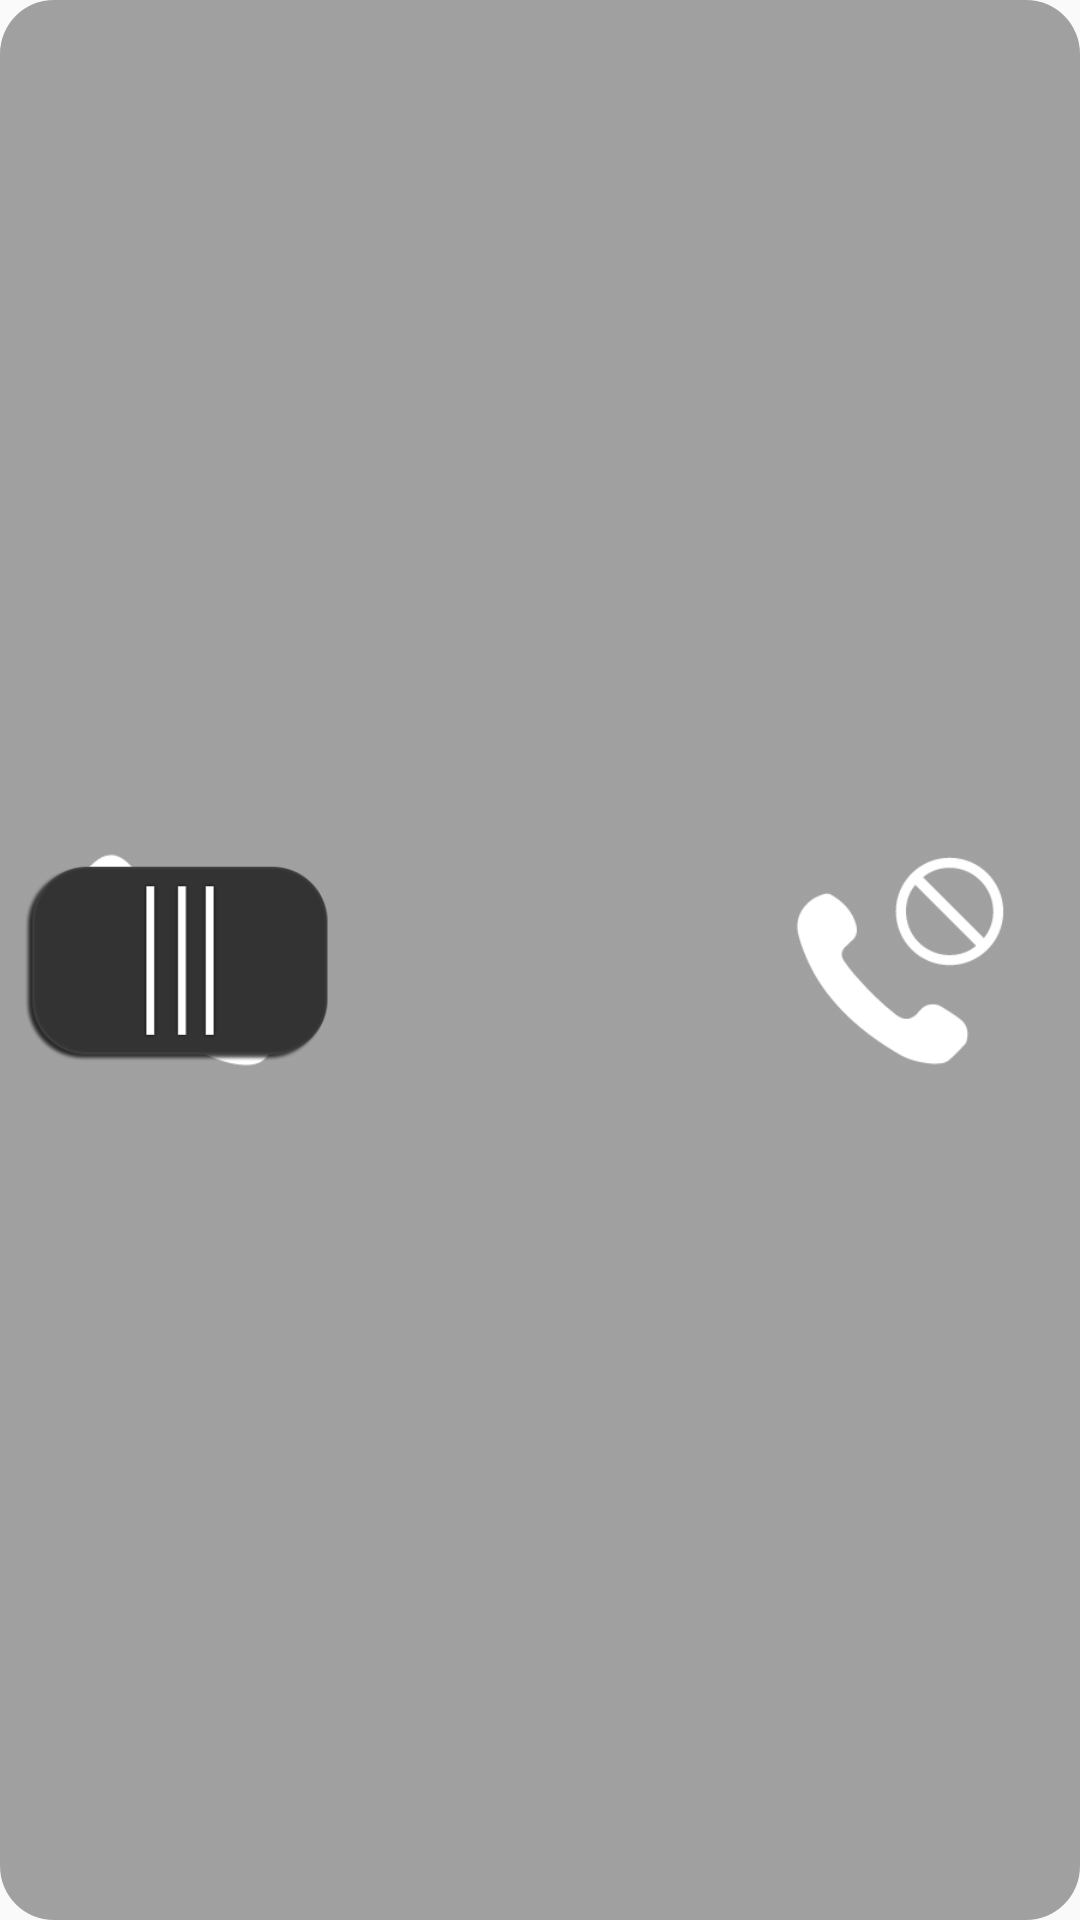

Icons on this 1080x1920 Android screen, each with its box as (x1, y1, x2, y2):
call reject: (797, 857, 1004, 1064)
